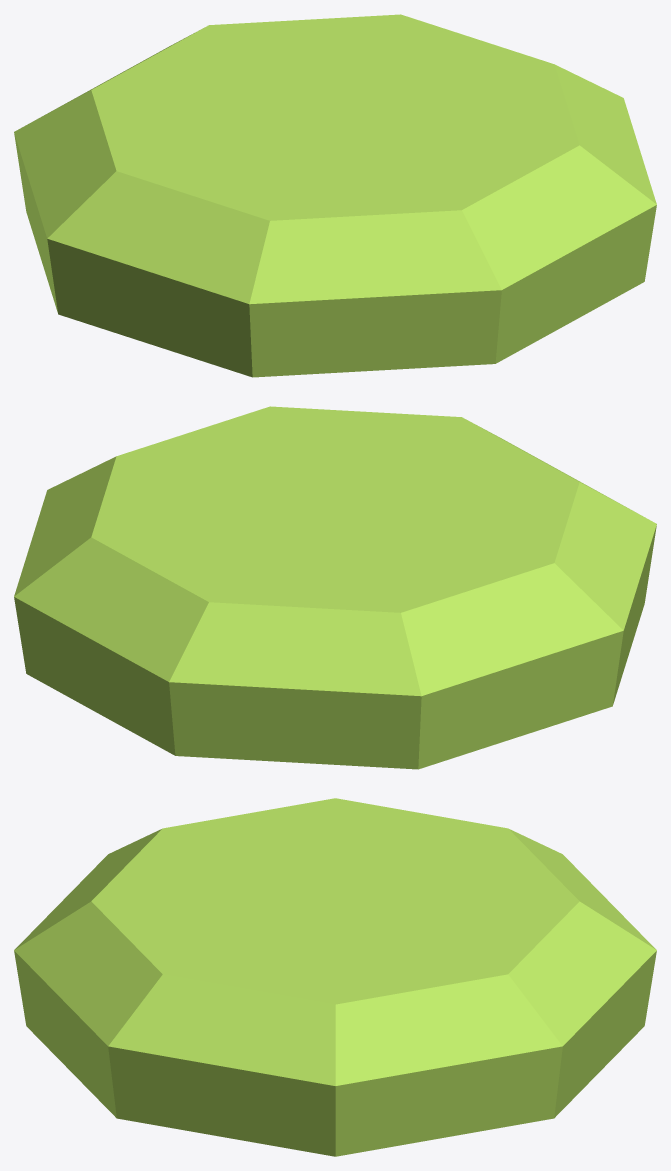
File: MASHED ingredient proto.fbx
3 views of the same model, one above another, from view 1: azimuth 30°, elevation 25°; view 2: azimuth 150°, elevation 25°; view 3: azimuth 270°, elevation 25° (orthographic). The views are drawn at different scales.
Parts seen in each view (by area): view 1: ing mashed; view 2: ing mashed; view 3: ing mashed.
Boxes of the visible parts, bbox=[...] form: ing mashed: bbox=[14, 14, 656, 377]; ing mashed: bbox=[14, 406, 656, 769]; ing mashed: bbox=[14, 798, 656, 1156].
Bounding box in the file's own units: 1.01 × 1.01 × 0.2211.
